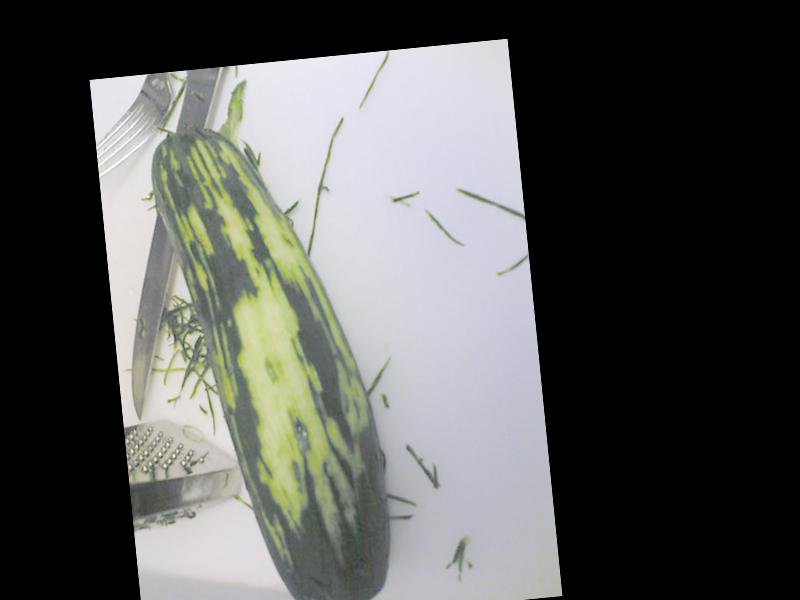Cucumber: (145, 111, 399, 600)
